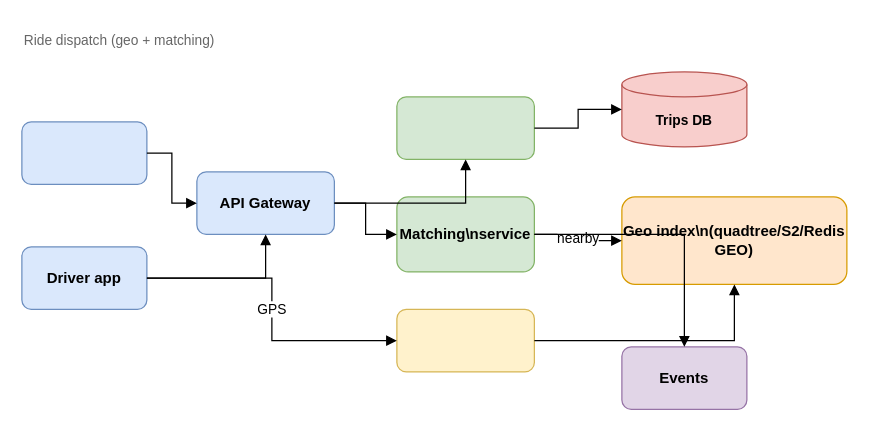
Image size: 869x431. Some labels were removed from this diagram. The box of each missing label's shape, as (x1, y1, x2, y2) in pixels:
Location\ningest: (396, 308, 534, 372)
Rider app: (21, 121, 147, 184)
Trip service: (396, 96, 534, 159)
